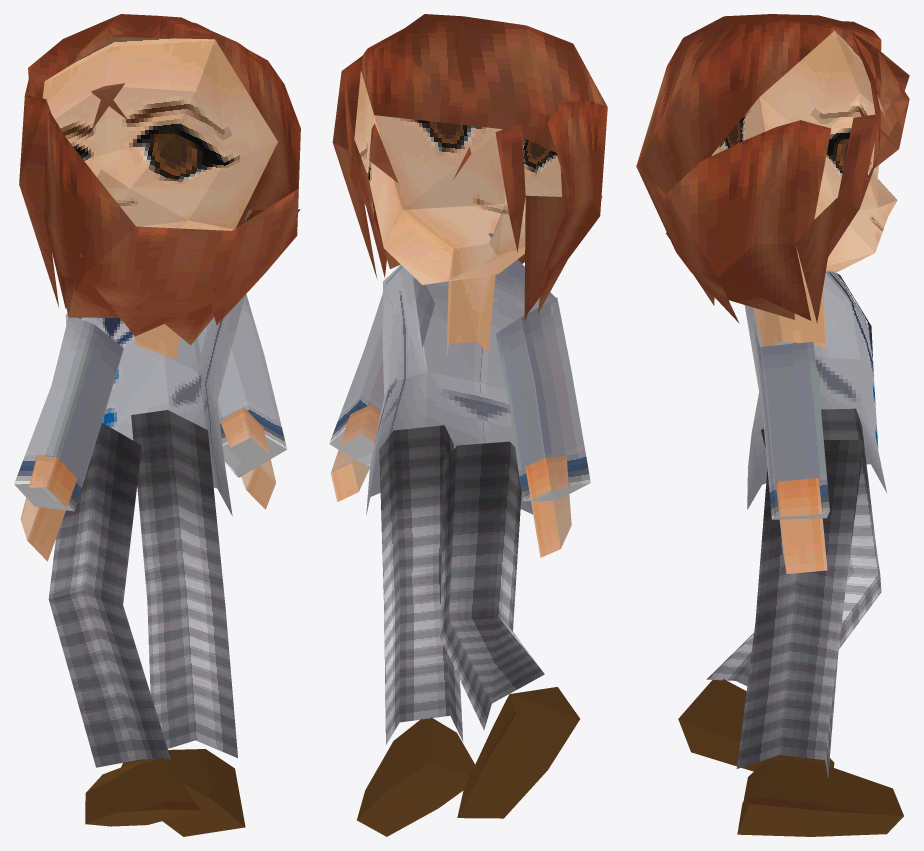
Rendered from ps2_save-icons_konohana4.glb.
The picture shows the model from 3 angles, left to right: view 1: azimuth 30°, elevation 25°; view 2: azimuth 150°, elevation 25°; view 3: azimuth 270°, elevation 25°; orthographic projection. The views are drawn at different scales.
Visible parts, largest first — view 1: kh4.ico; view 2: kh4.ico; view 3: kh4.ico.
Part boxes in pixels (bbox=[...]): kh4.ico: bbox=[14, 14, 300, 836]; kh4.ico: bbox=[329, 14, 607, 836]; kh4.ico: bbox=[636, 14, 909, 836].
Bounding box in the file's own units: 1.54 × 4.66 × 1.49.
Materials: 1 (1 with a texture image).
